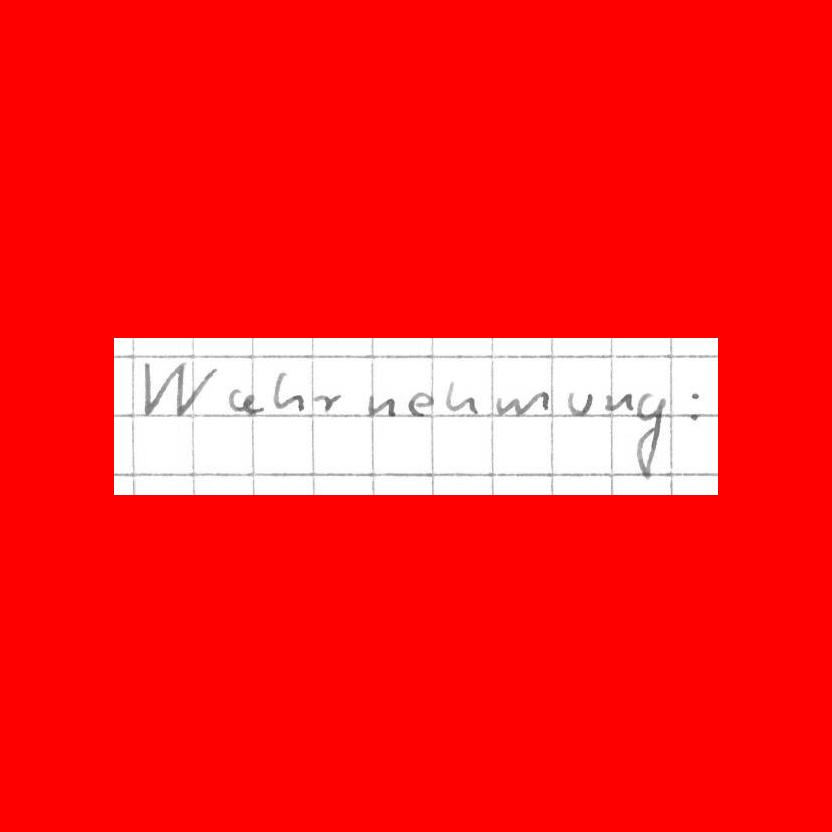Char: (142, 358, 215, 420), (632, 392, 667, 477), (445, 375, 486, 417), (270, 368, 307, 411), (496, 389, 545, 418), (229, 389, 263, 417), (405, 390, 434, 418), (683, 388, 704, 426), (565, 390, 594, 417), (365, 392, 396, 417), (313, 391, 343, 412), (602, 392, 632, 413)
